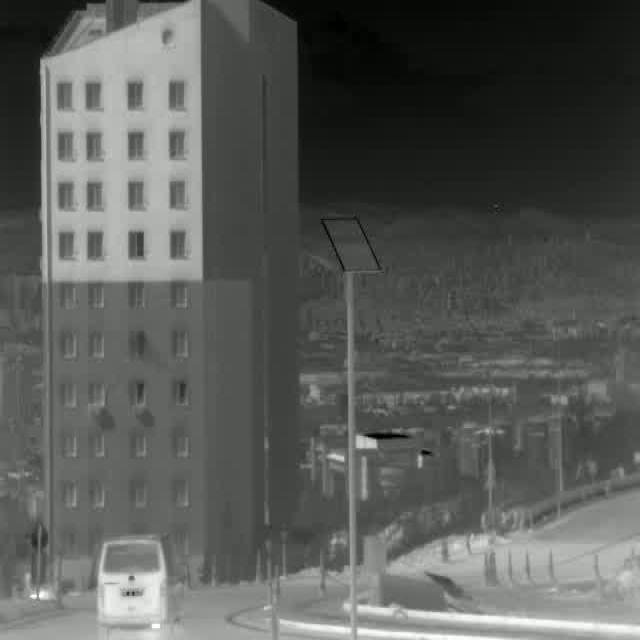Car: (95, 532, 181, 640)
